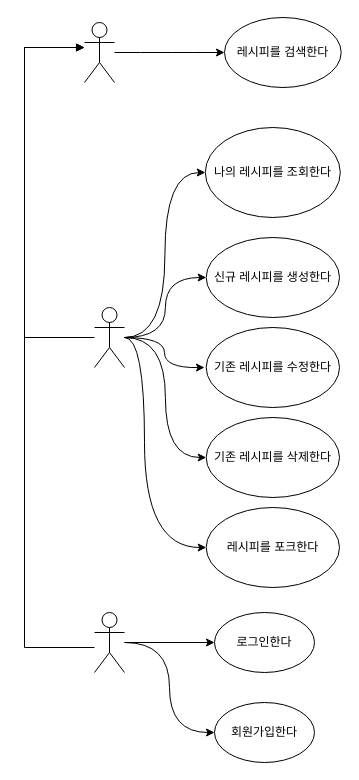
Image size: 359x780. Some labels were removed from this diagram. Here are the shapes that lost their labels. From the top down, the box of each, then its label:
(84, 22, 114, 82): 고객
(94, 306, 124, 368): 가입고객
(94, 612, 124, 672): 미가입고객
